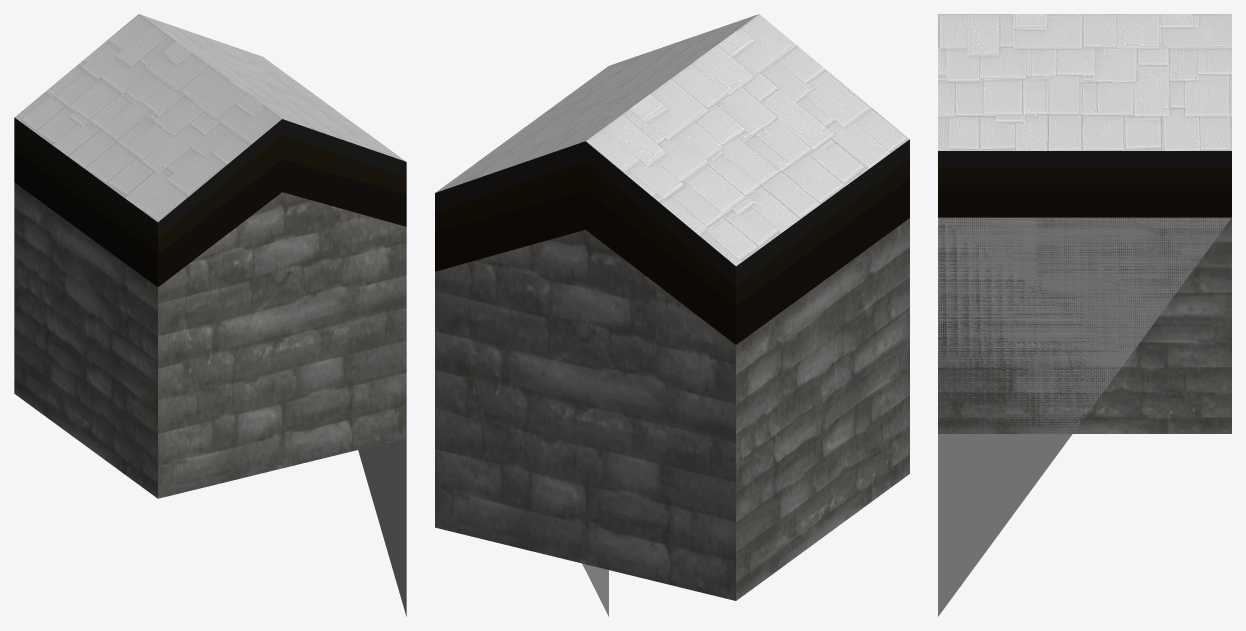
3 renders of one model, left to right at view 1: azimuth 30°, elevation 25°; view 2: azimuth 150°, elevation 25°; view 3: azimuth 270°, elevation 25°, orthographic. The views are drawn at different scales.
Parts seen in each view (by area): view 1: 5469; view 2: 5469; view 3: 5469.
Part boxes in pixels (box(x1,y1,x2,y2)): 5469: box(14, 14, 406, 616); 5469: box(435, 14, 909, 616); 5469: box(938, 14, 1231, 616).
Bounding box in the file's own units: 1.28 × 2.6 × 1.28.
Materials: 3 (2 with a texture image).
